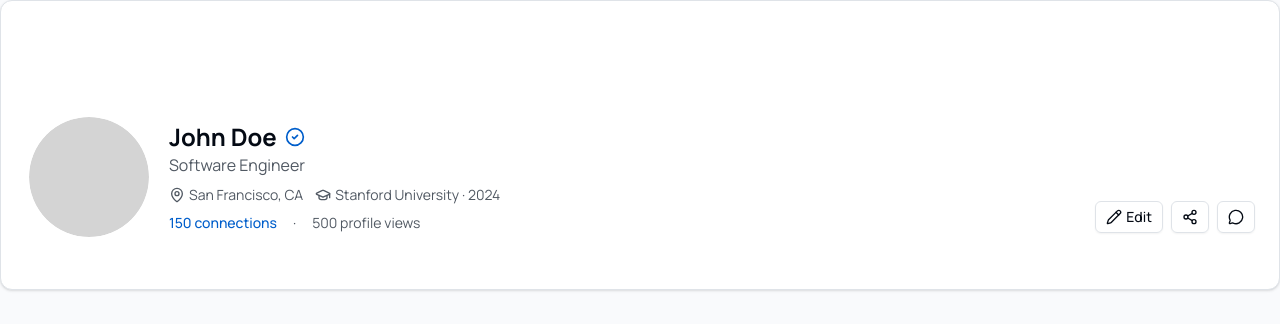
Scenario: ProfileHeader › enters edit mode when Edit button is clicked
Click the button "Edit": (1129, 217) [1095, 201, 1163, 233]
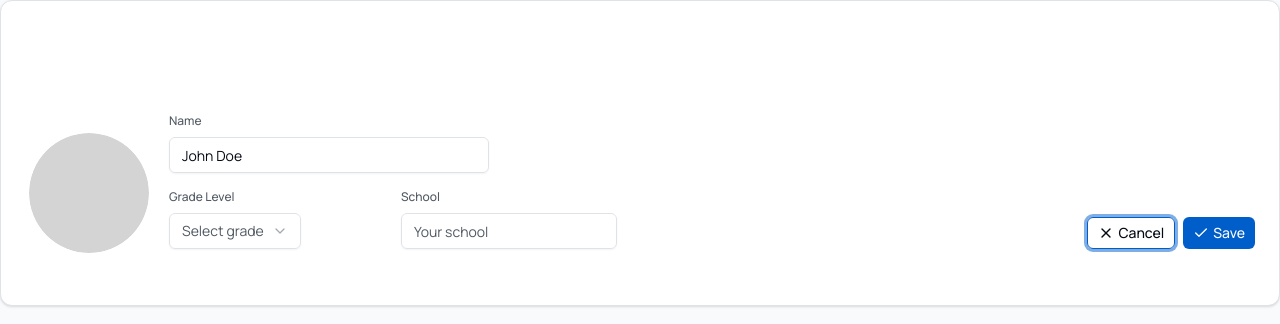
Check: the field labelled "Name" is shown, box [169, 137, 489, 173]
Check: the button "Save" is shown, box [1183, 217, 1255, 249]
